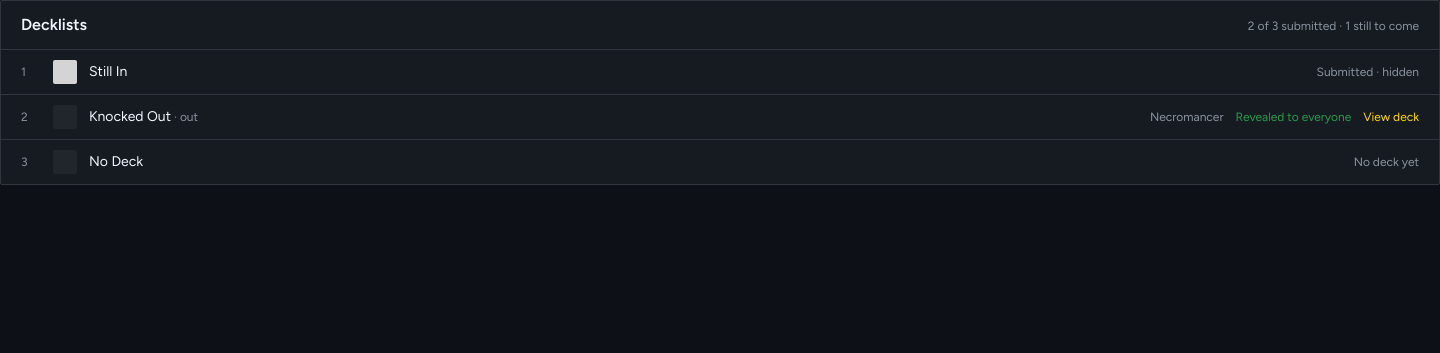
Test case: DeckPanel › says the deck is a snapshot, not a live view
Click the button "View deck" at (1391, 117), box [1363,109,1419,125]
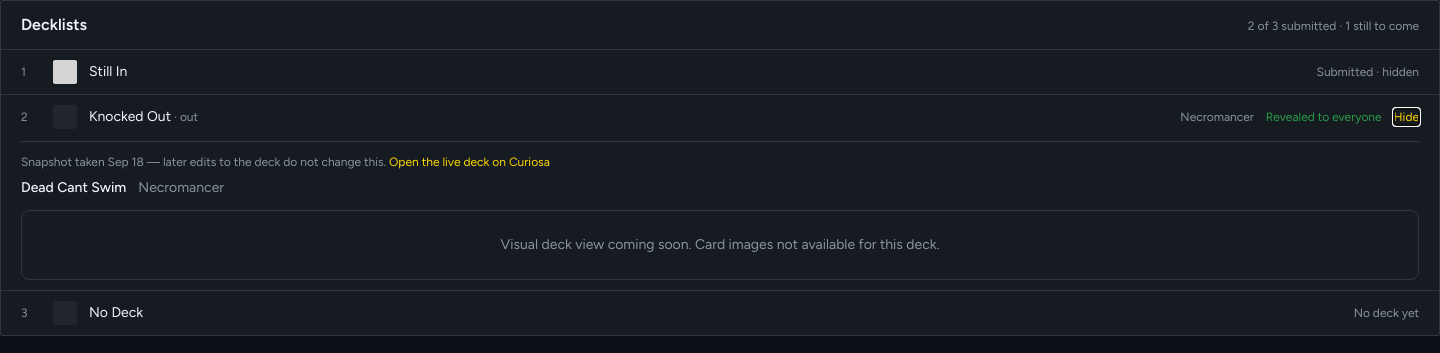
Check: the text "later edits to the deck do not change this" is shown, box [21,155,386,169]
